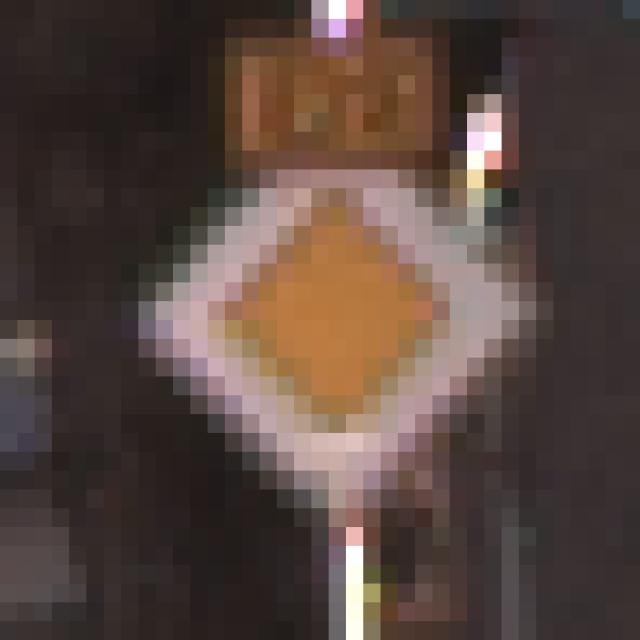Main Road: (105, 114, 554, 528)
